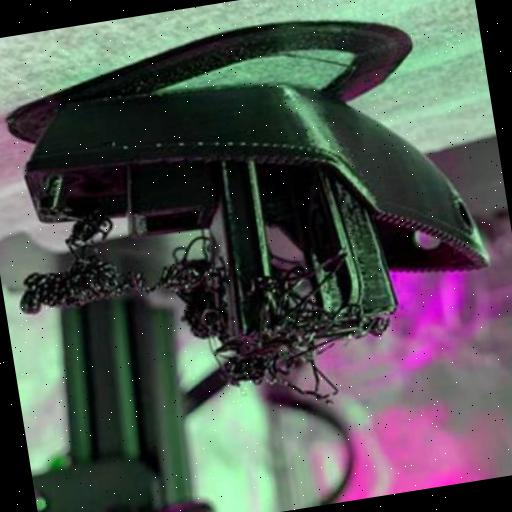spaghetti: (142, 210, 401, 434), (6, 208, 152, 323)
